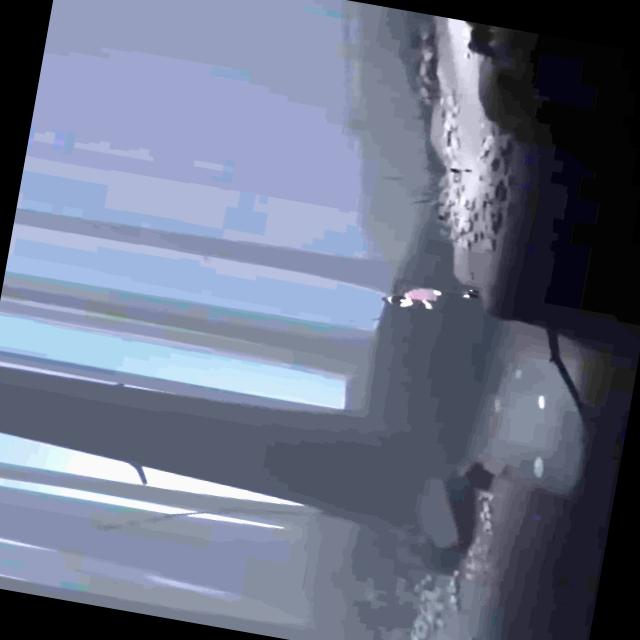boy: (385, 276, 475, 320)
